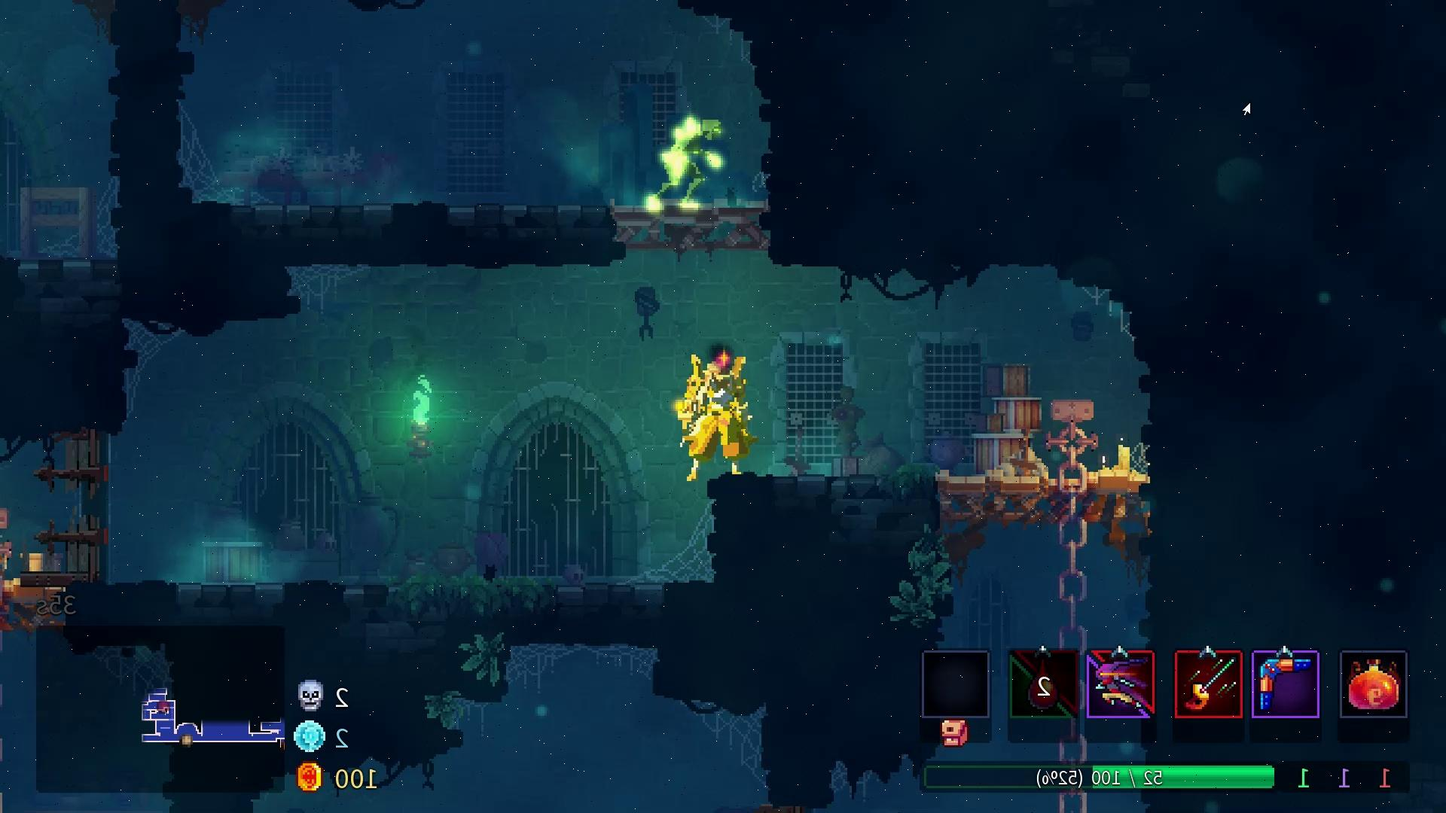gamer: (672, 341, 749, 483)
green1: (637, 113, 727, 218)
